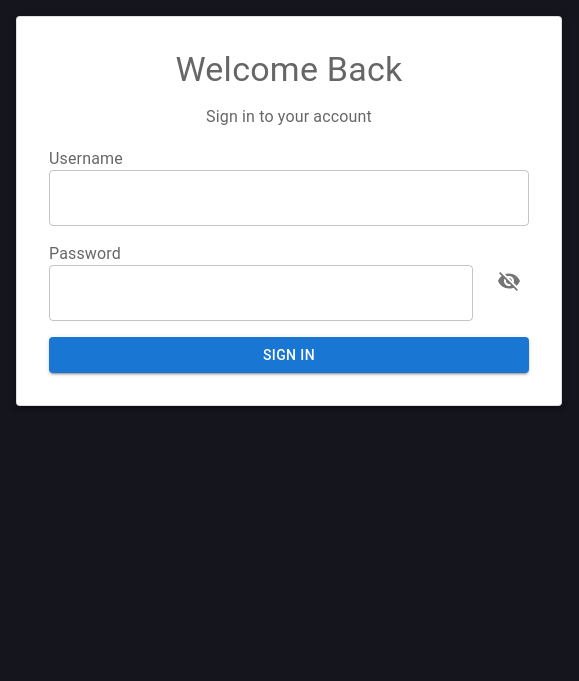
Scenario: redirects on successful login
The width and height of the screenshot is (579, 681).
In the field labelled "Username": x=289, y=198 [49,170,529,226], type "driver"
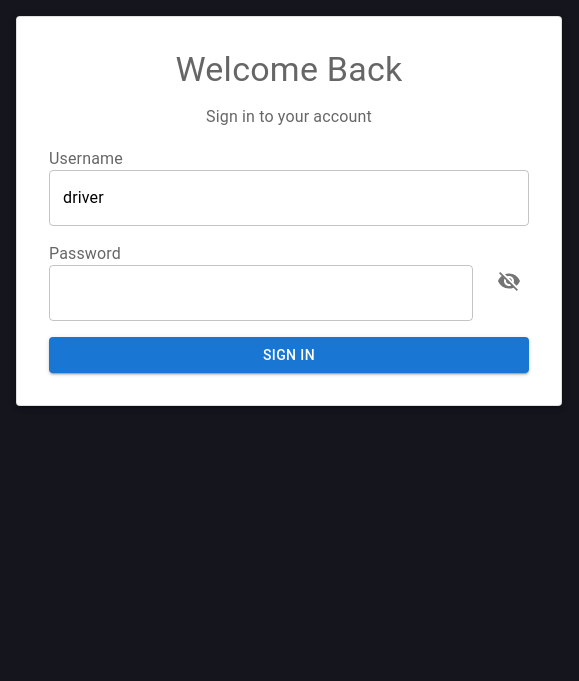
In the password field labelled "Password": x=261, y=293 [49,265,473,321], type "correct"
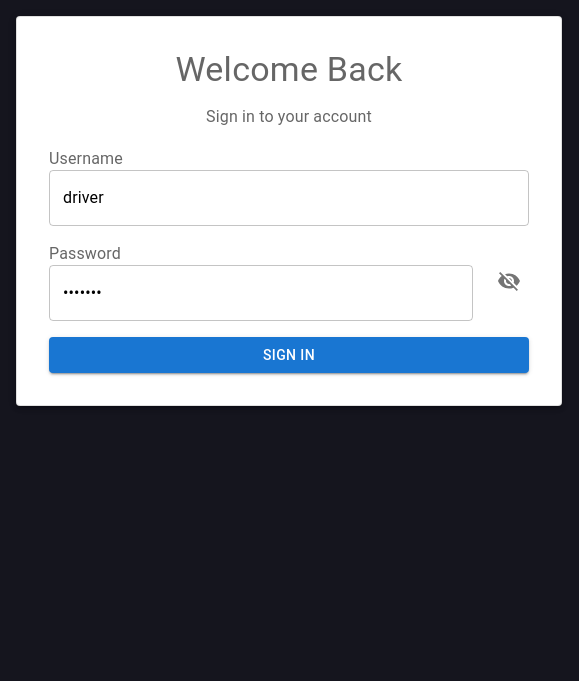
Click the button "Sign In": x=289, y=355 [49,337,529,373]
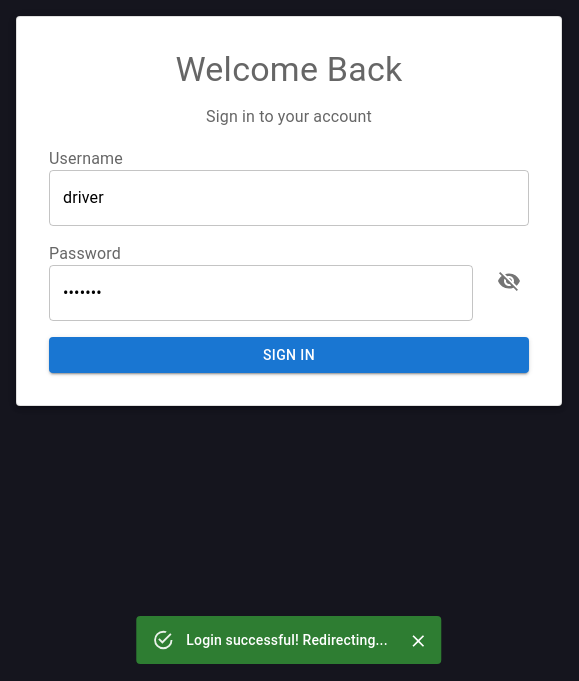
Check: the text "Login successful! Redirecting..." is shown, box [186,632,388,648]
